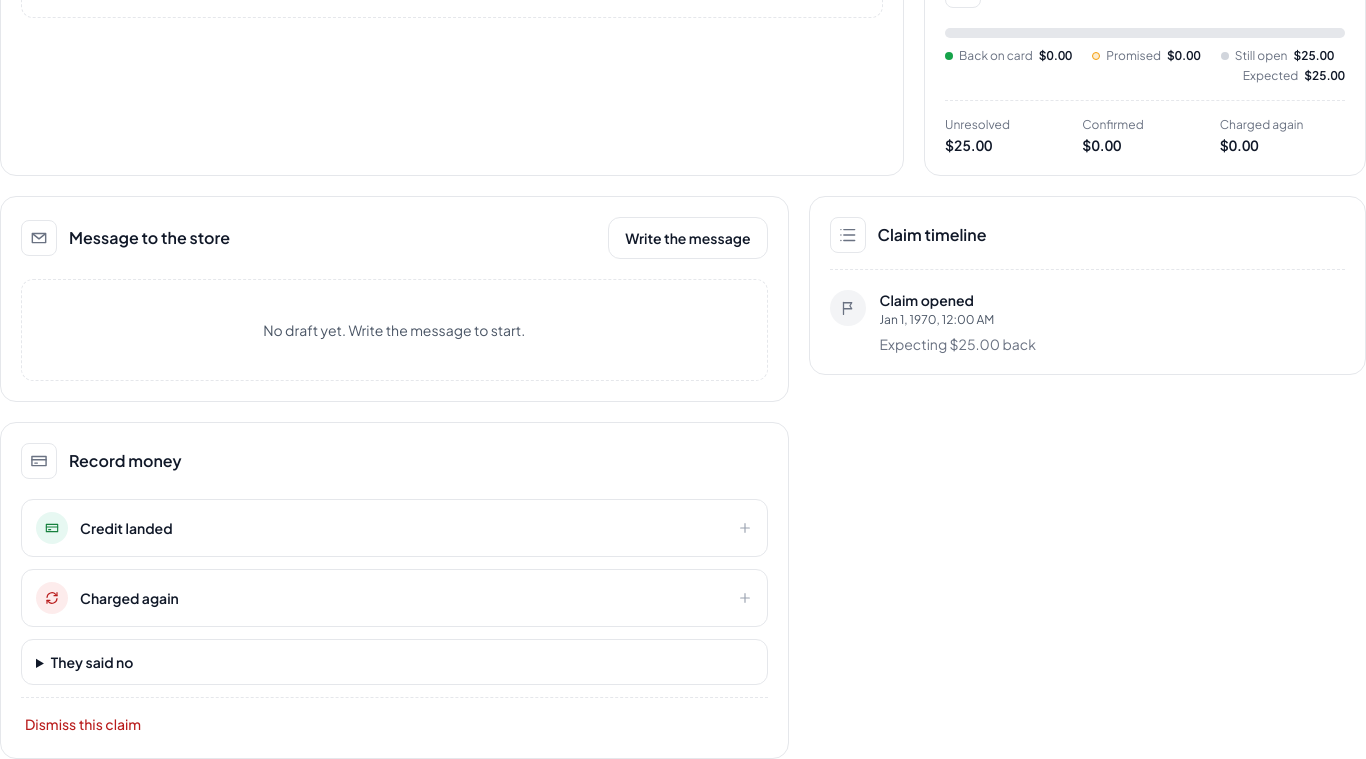
Test: recording a denial (recordDenial) › needs a reason
(page scrolled)
Click the heading "They said no" at [92, 662], box x1=51 y1=653 x2=133 y2=671
(page scrolled)
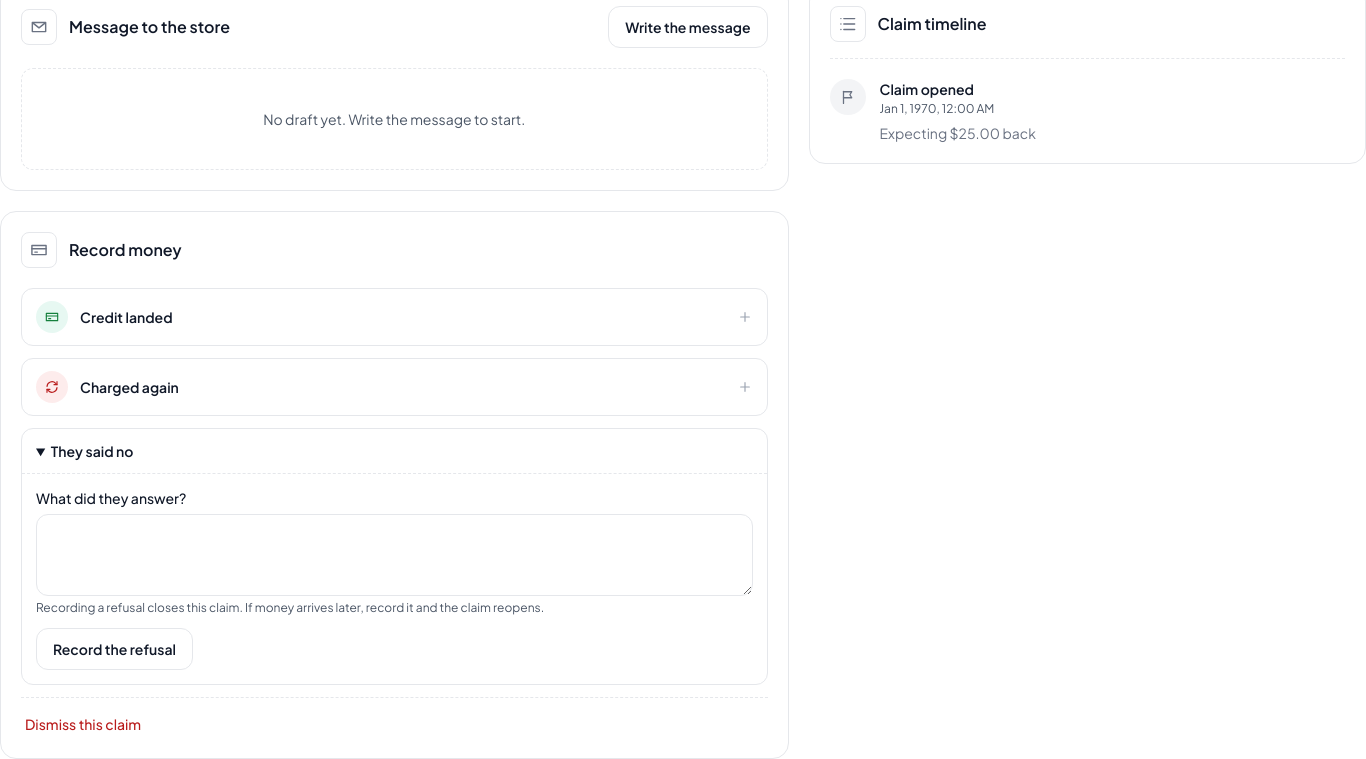
Click the button "Record the refusal" at [114, 649], box x1=36 y1=628 x2=193 y2=670
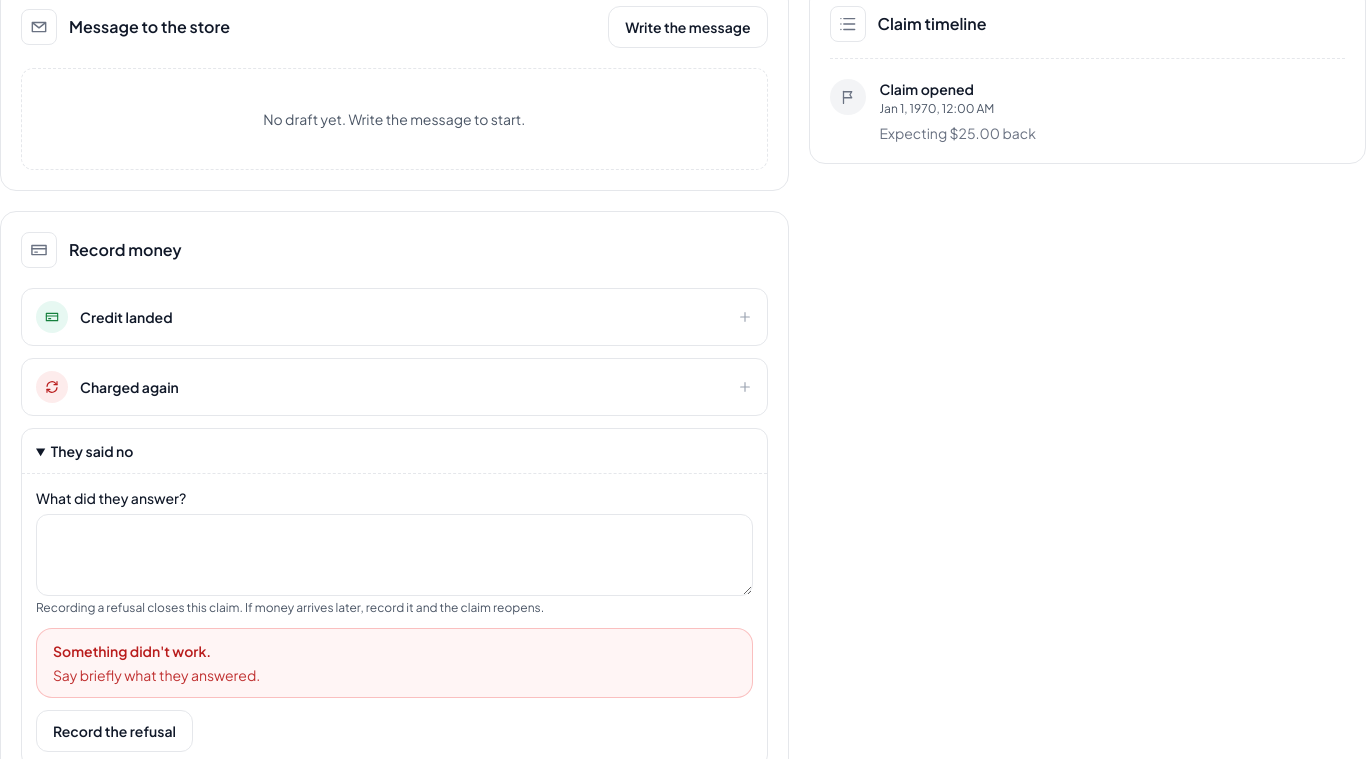
Check: the message shows "Say briefly what they answered.", box x1=53 y1=666 x2=260 y2=684
